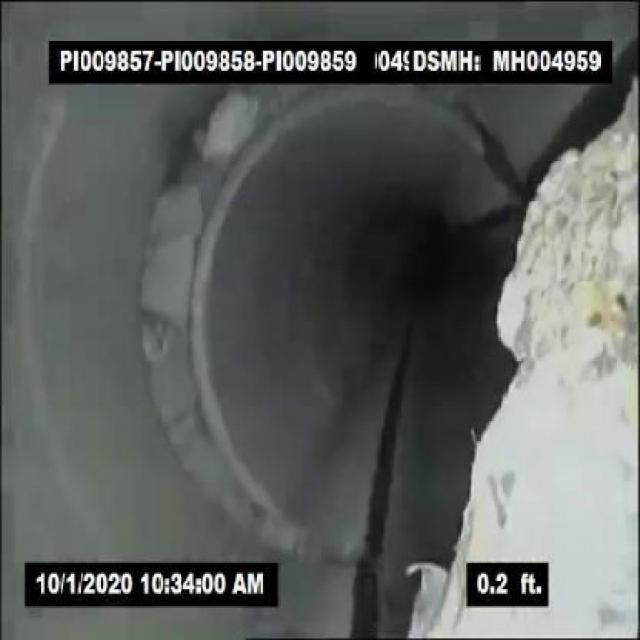Joint offset: (138, 186, 230, 509), (166, 89, 369, 182), (236, 468, 342, 555)
Obstacle: (414, 97, 638, 638)
